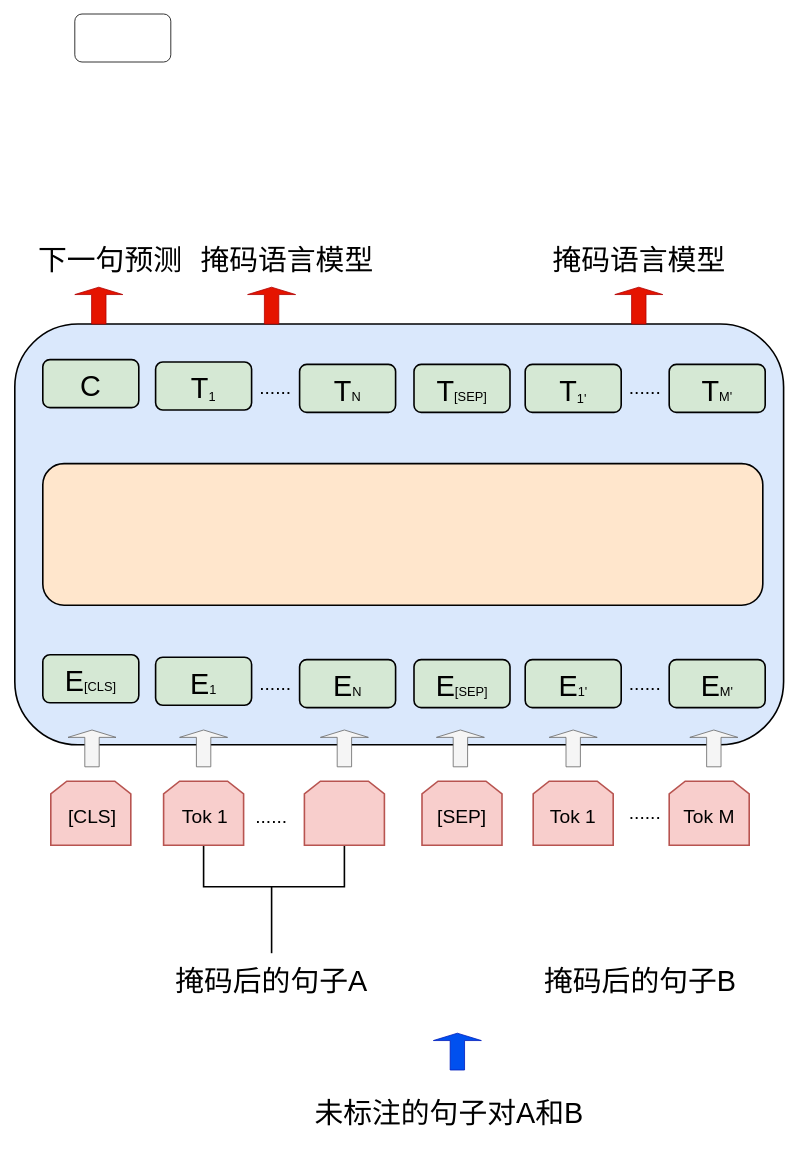
This 798x1155 diagram has some shape labels left out. Here are the shapes that lost their labels. From the top down, the centre of each, then its label:
At [402,534]: "BERT".
At [344,813]: "Tok N".
